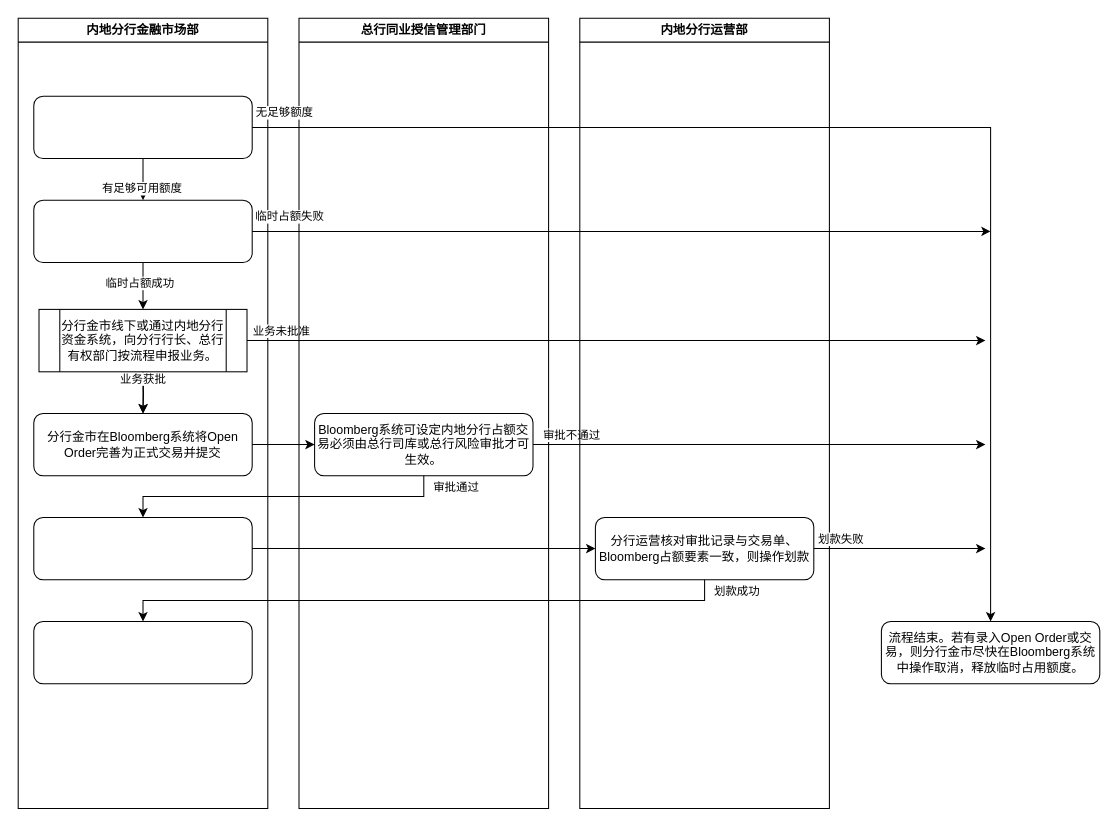
Some shapes in this 1118 by 827 pixel diagram are drawn without their labels. Each missing label, with the centre of its shape:
"与客户洽谈交易，初定时在Bloomberg系统录入Open order，暂时性占用额度，防止各机构重复使用导致超额。" goes at point 142,231.
"业务前分行金市自行登录Bloomberg系统查询对同业授信可用额度" goes at point 142,127.
"分行金市将业务审批记录、Bloomberg占额成功记录提交分行运营" goes at point 142,548.
"同业授信使用流程结束。业务按相关制度要求日终汇总上报总行司库、风险。" goes at point 142,652.
